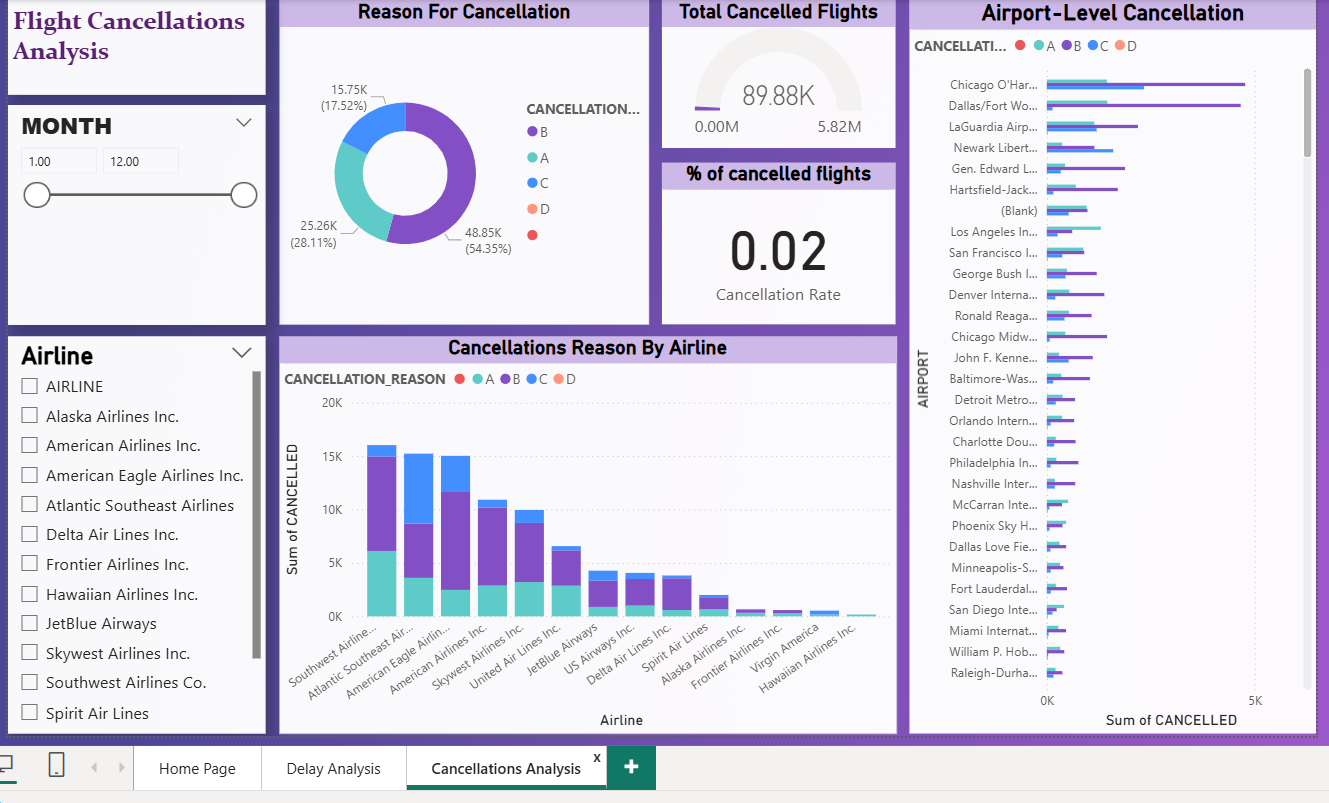

Layout of this report page (visuals, bound fields, positions):
{"tool":"powerbi","page":{"name":"Page 2","canvas":[1280,720],"ordinal":2},"visuals":[{"type":"clusteredBarChart","title":"Airport-Level Cancellation","fields":{"Category":["airports.AIRPORT"],"Y":["Sum(flights.CANCELLED)"],"Series":["flights.CANCELLATION_REASON"]},"box":[881.2,0,398.8,717.5],"z":0},{"type":"donutChart","title":"Reason For Cancellation","fields":{"Category":["flights.CANCELLATION_REASON"],"Y":["Sum(flights.CANCELLED)"]},"box":[265.4,0,362,317.9],"z":1000},{"type":"textbox","box":[0,0,251.9,92.9],"z":2000},{"type":"slicer","fields":{"Values":["flights.MONTH"]},"box":[0,102.7,251.9,215.2],"z":3000},{"type":"slicer","fields":{"Values":["airlines.Airline"]},"box":[0,328.9,251.9,388.9],"z":4000},{"type":"gauge","title":"Total Cancelled Flights","fields":{"Y":["Sum(flights.CANCELLED)"],"MaxValue":["CountNonNull(flights.FLIGHT_NUMBER)"]},"box":[640,0,228.8,145],"z":5000},{"type":"card","title":"% of cancelled flights","fields":{"Values":["flights.Cancellation Rate"]},"box":[640,158.8,228.8,158.8],"z":6000},{"type":"columnChart","title":"Cancellations Reason By Airline","fields":{"Category":["airlines.Airline"],"Series":["flights.CANCELLATION_REASON"],"Y":["Sum(flights.CANCELLED)"]},"box":[265,328.8,603.8,388.8],"z":7000}]}

Visuals, with their boxes in screenshot pixels (x1, y1, x2, y2):
"Airport-Level Cancellation" clusteredBarChart: l=906, t=0, r=1314, b=735
"Reason For Cancellation" donutChart: l=275, t=0, r=646, b=326
textbox: l=3, t=0, r=261, b=95
slicer - flights.MONTH: l=3, t=105, r=261, b=326
slicer - airlines.Airline: l=3, t=337, r=261, b=735
"Total Cancelled Flights" gauge: l=659, t=0, r=893, b=148
"% of cancelled flights" card: l=659, t=163, r=893, b=325
"Cancellations Reason By Airline" columnChart: l=275, t=337, r=893, b=735
